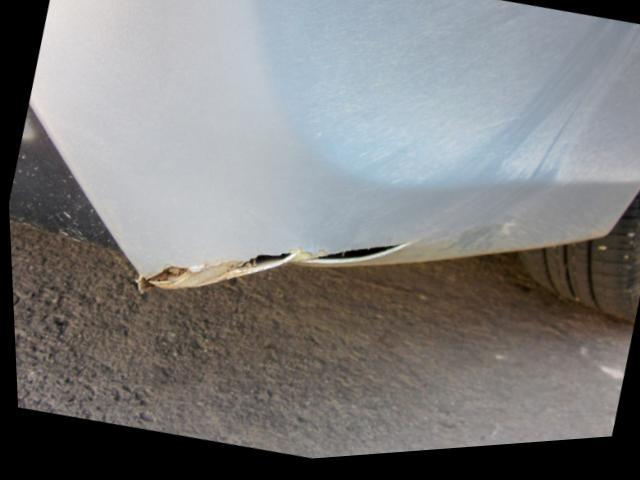crack: (142, 246, 414, 289)
